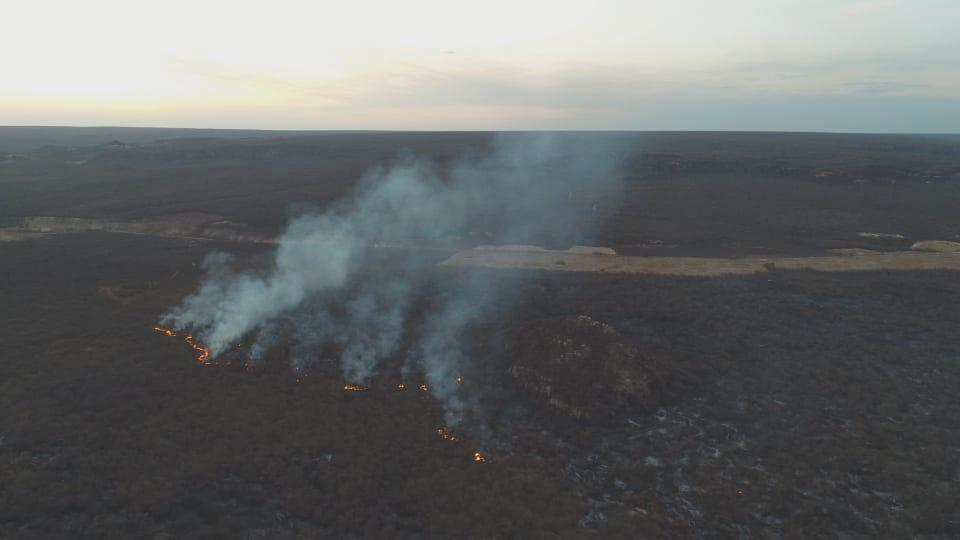Fire: (181, 335, 211, 364), (151, 325, 173, 339), (343, 383, 367, 394), (472, 451, 484, 461)
